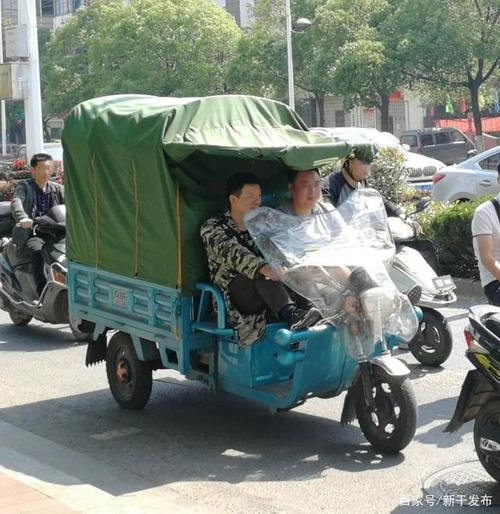driver: (203, 173, 289, 328)
overloading: (52, 73, 427, 458)
passenger: (282, 161, 365, 324)
